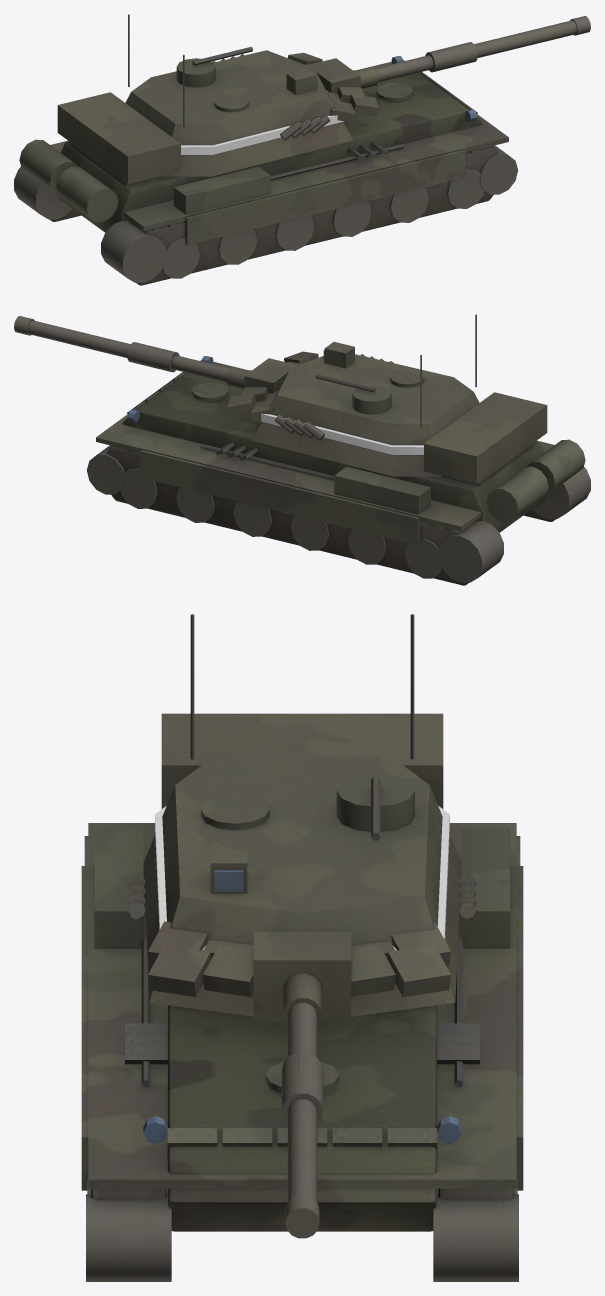
3 views of the same model, one above another, from view 1: azimuth 30°, elevation 25°; view 2: azimuth 150°, elevation 25°; view 3: azimuth 270°, elevation 25° (orthographic). The views are drawn at different scales.
Visible parts, largest first — view 1: g_t90_hull, g_t90_turret, g_t90_gun; view 2: g_t90_hull, g_t90_turret, g_t90_gun; view 3: g_t90_hull, g_t90_turret, g_t90_gun.
Boxes of the visible parts, <box> form: g_t90_hull: <box>14,56,517,285</box>; g_t90_turret: <box>57,14,379,183</box>; g_t90_gun: <box>354,16,590,88</box>; g_t90_hull: <box>87,356,590,585</box>; g_t90_turret: <box>227,314,547,483</box>; g_t90_gun: <box>14,316,250,388</box>; g_t90_hull: <box>81,823,523,1281</box>; g_t90_turret: <box>128,614,476,1021</box>; g_t90_gun: <box>281,973,323,1238</box>.
Bounding box in the file's own units: 10.07 × 3.56 × 3.61.
4 materials, 3 textured.
